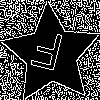F: (26, 29, 66, 80)
